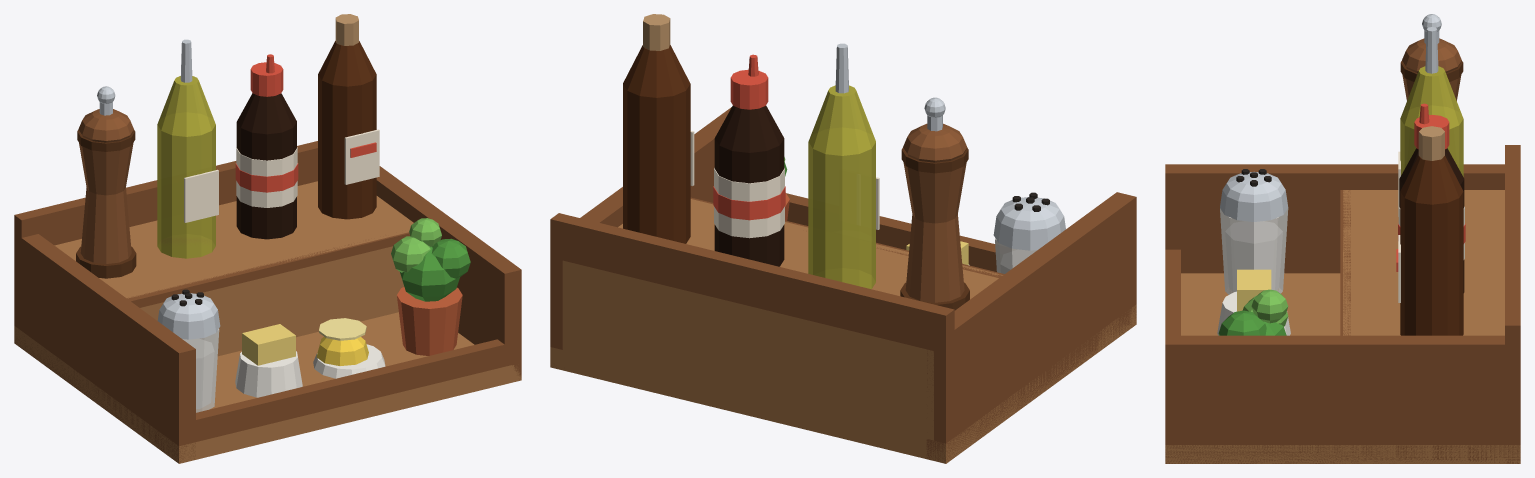
The model's file is SpiceRack.glb.
3 renders of one model, left to right at view 1: azimuth 30°, elevation 25°; view 2: azimuth 150°, elevation 25°; view 3: azimuth 270°, elevation 25°, orthographic. The views are drawn at different scales.
Parts seen in each view (by area): view 1: SpiceRack_Base, SpiceRack_Vinegar, SpiceRack_OliveOil, SpiceRack_Soy, SpiceRack_Pepper, SpiceRack_Herbs, SpiceRack_Salt, SpiceRack_Butter, SpiceRack_Lemon; view 2: SpiceRack_Base, SpiceRack_Vinegar, SpiceRack_OliveOil, SpiceRack_Soy, SpiceRack_Pepper, SpiceRack_Salt; view 3: SpiceRack_Base, SpiceRack_Vinegar, SpiceRack_Salt, SpiceRack_OliveOil, SpiceRack_Herbs, SpiceRack_Pepper, SpiceRack_Soy, SpiceRack_Butter.
Boxes of the visible parts, left/top/right/bottom form: SpiceRack_Base: left=14, top=141, right=521, bottom=463; SpiceRack_Vinegar: left=318, top=14, right=379, bottom=219; SpiceRack_OliveOil: left=157, top=39, right=218, bottom=258; SpiceRack_Soy: left=235, top=54, right=298, bottom=239; SpiceRack_Pepper: left=76, top=86, right=136, bottom=278; SpiceRack_Herbs: left=391, top=218, right=470, bottom=355; SpiceRack_Salt: left=157, top=289, right=220, bottom=412; SpiceRack_Butter: left=235, top=324, right=302, bottom=397; SpiceRack_Lemon: left=313, top=318, right=385, bottom=378; SpiceRack_Base: left=550, top=107, right=1136, bottom=463; SpiceRack_Vinegar: left=623, top=14, right=694, bottom=243; SpiceRack_OliveOil: left=808, top=43, right=879, bottom=289; SpiceRack_Soy: left=713, top=54, right=785, bottom=266; SpiceRack_Pepper: left=900, top=97, right=969, bottom=310; SpiceRack_Salt: left=993, top=192, right=1065, bottom=273; SpiceRack_Base: left=1165, top=145, right=1520, bottom=463; SpiceRack_Vinegar: left=1396, top=126, right=1463, bottom=335; SpiceRack_Salt: left=1220, top=169, right=1288, bottom=294; SpiceRack_OliveOil: left=1398, top=27, right=1463, bottom=216; SpiceRack_Herbs: left=1218, top=289, right=1288, bottom=335; SpiceRack_Pepper: left=1400, top=14, right=1463, bottom=100; SpiceRack_Soy: left=1398, top=103, right=1465, bottom=292; SpiceRack_Butter: left=1217, top=269, right=1290, bottom=335.
Bounding box in the file's own units: 0.324 × 0.271 × 0.27.
